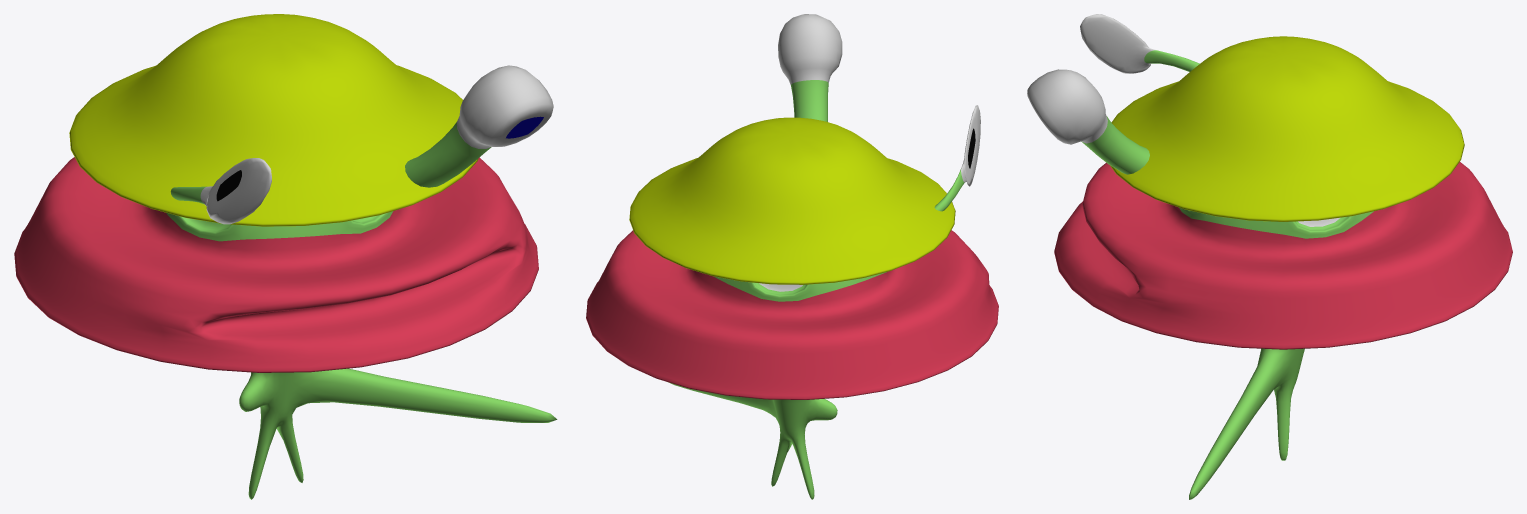
File: alien original.fbx
3 views of the same model, side by side, from view 1: azimuth 30°, elevation 25°; view 2: azimuth 150°, elevation 25°; view 3: azimuth 270°, elevation 25° (orthographic). The views are drawn at different scales.
Parts seen in each view (by area): view 1: Sphere, Cylinder; view 2: Sphere, Cylinder; view 3: Sphere, Cylinder.
Part boxes in pixels (x1,y1,x2,y2): Sphere: (14,65,557,499); Cylinder: (69,14,478,226); Sphere: (586,14,998,499); Cylinder: (629,117,955,284); Sphere: (1027,14,1512,499); Cylinder: (1110,36,1464,221).
Bounding box in the file's own units: 355 × 365 × 377.
